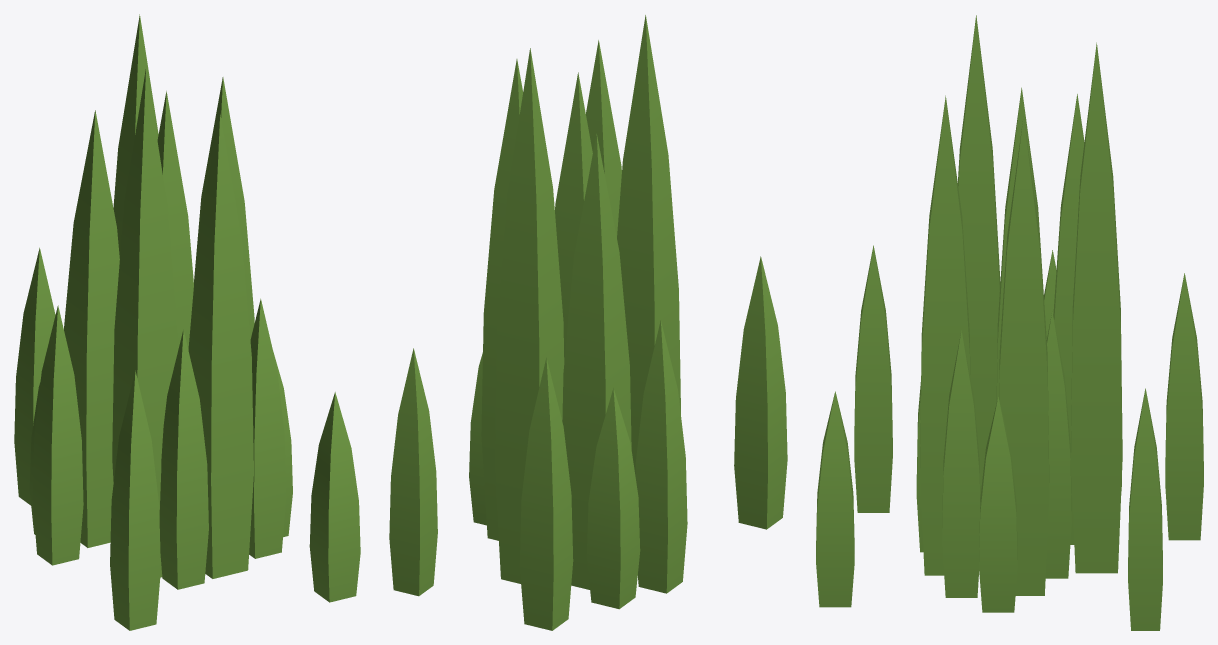
Rendered from Grass_v2.fbx.
3 renders of one model, left to right at view 1: azimuth 30°, elevation 25°; view 2: azimuth 150°, elevation 25°; view 3: azimuth 270°, elevation 25°, orthographic. The views are drawn at different scales.
Parts seen in each view (by area): view 1: pCube5, pCube2, pCube4, pCube10, pCube13, pCube8, pCube15, pCube7, pCube11, pCube1, pCube3, pCube6 (+1 smaller); view 2: pCube3, pCube4, pCube2, pCube13, pCube11, pCube10, pCube12, pCube16, pCube6, pCube1, pCube5, pCube14; view 3: pCube3, pCube6, pCube5, pCube2, pCube11, pCube13, pCube7, pCube12, pCube15, pCube14, pCube9, pCube4 (+3 smaller).
Boxes of the visible parts, bbox=[...] form: pCube5: bbox=[188, 113, 253, 578]; pCube2: bbox=[112, 68, 177, 577]; pCube4: bbox=[64, 110, 119, 547]; pCube10: bbox=[32, 305, 83, 565]; pCube13: bbox=[110, 370, 160, 630]; pCube8: bbox=[159, 329, 208, 589]; pCube15: bbox=[309, 392, 360, 602]; pCube7: bbox=[249, 298, 286, 558]; pCube11: bbox=[14, 247, 55, 505]; pCube1: bbox=[157, 91, 193, 350]; pCube3: bbox=[113, 14, 158, 258]; pCube6: bbox=[194, 77, 254, 339]; pCube3: bbox=[494, 48, 564, 583]; pCube4: bbox=[562, 134, 631, 589]; pCube2: bbox=[617, 15, 680, 474]; pCube13: bbox=[734, 256, 787, 529]; pCube11: bbox=[519, 357, 573, 630]; pCube10: bbox=[635, 320, 687, 593]; pCube12: bbox=[389, 348, 437, 596]; pCube16: bbox=[586, 388, 640, 609]; pCube6: bbox=[481, 59, 523, 540]; pCube1: bbox=[555, 72, 592, 360]; pCube5: bbox=[586, 40, 621, 237]; pCube14: bbox=[469, 352, 486, 525]; pCube3: bbox=[1071, 42, 1122, 573]; pCube6: bbox=[999, 116, 1049, 595]; pCube5: bbox=[920, 95, 970, 575]; pCube2: bbox=[958, 15, 1000, 496]; pCube11: bbox=[1165, 273, 1203, 540]; pCube13: bbox=[854, 245, 892, 512]; pCube7: bbox=[942, 330, 980, 597]; pCube12: bbox=[1128, 388, 1162, 630]; pCube15: bbox=[816, 391, 854, 607]; pCube14: bbox=[979, 397, 1017, 612]; pCube9: bbox=[1045, 311, 1071, 578]; pCube4: bbox=[1053, 94, 1084, 544].
Size of the model in its own units: 2.77 by 5.98 by 3.89.
